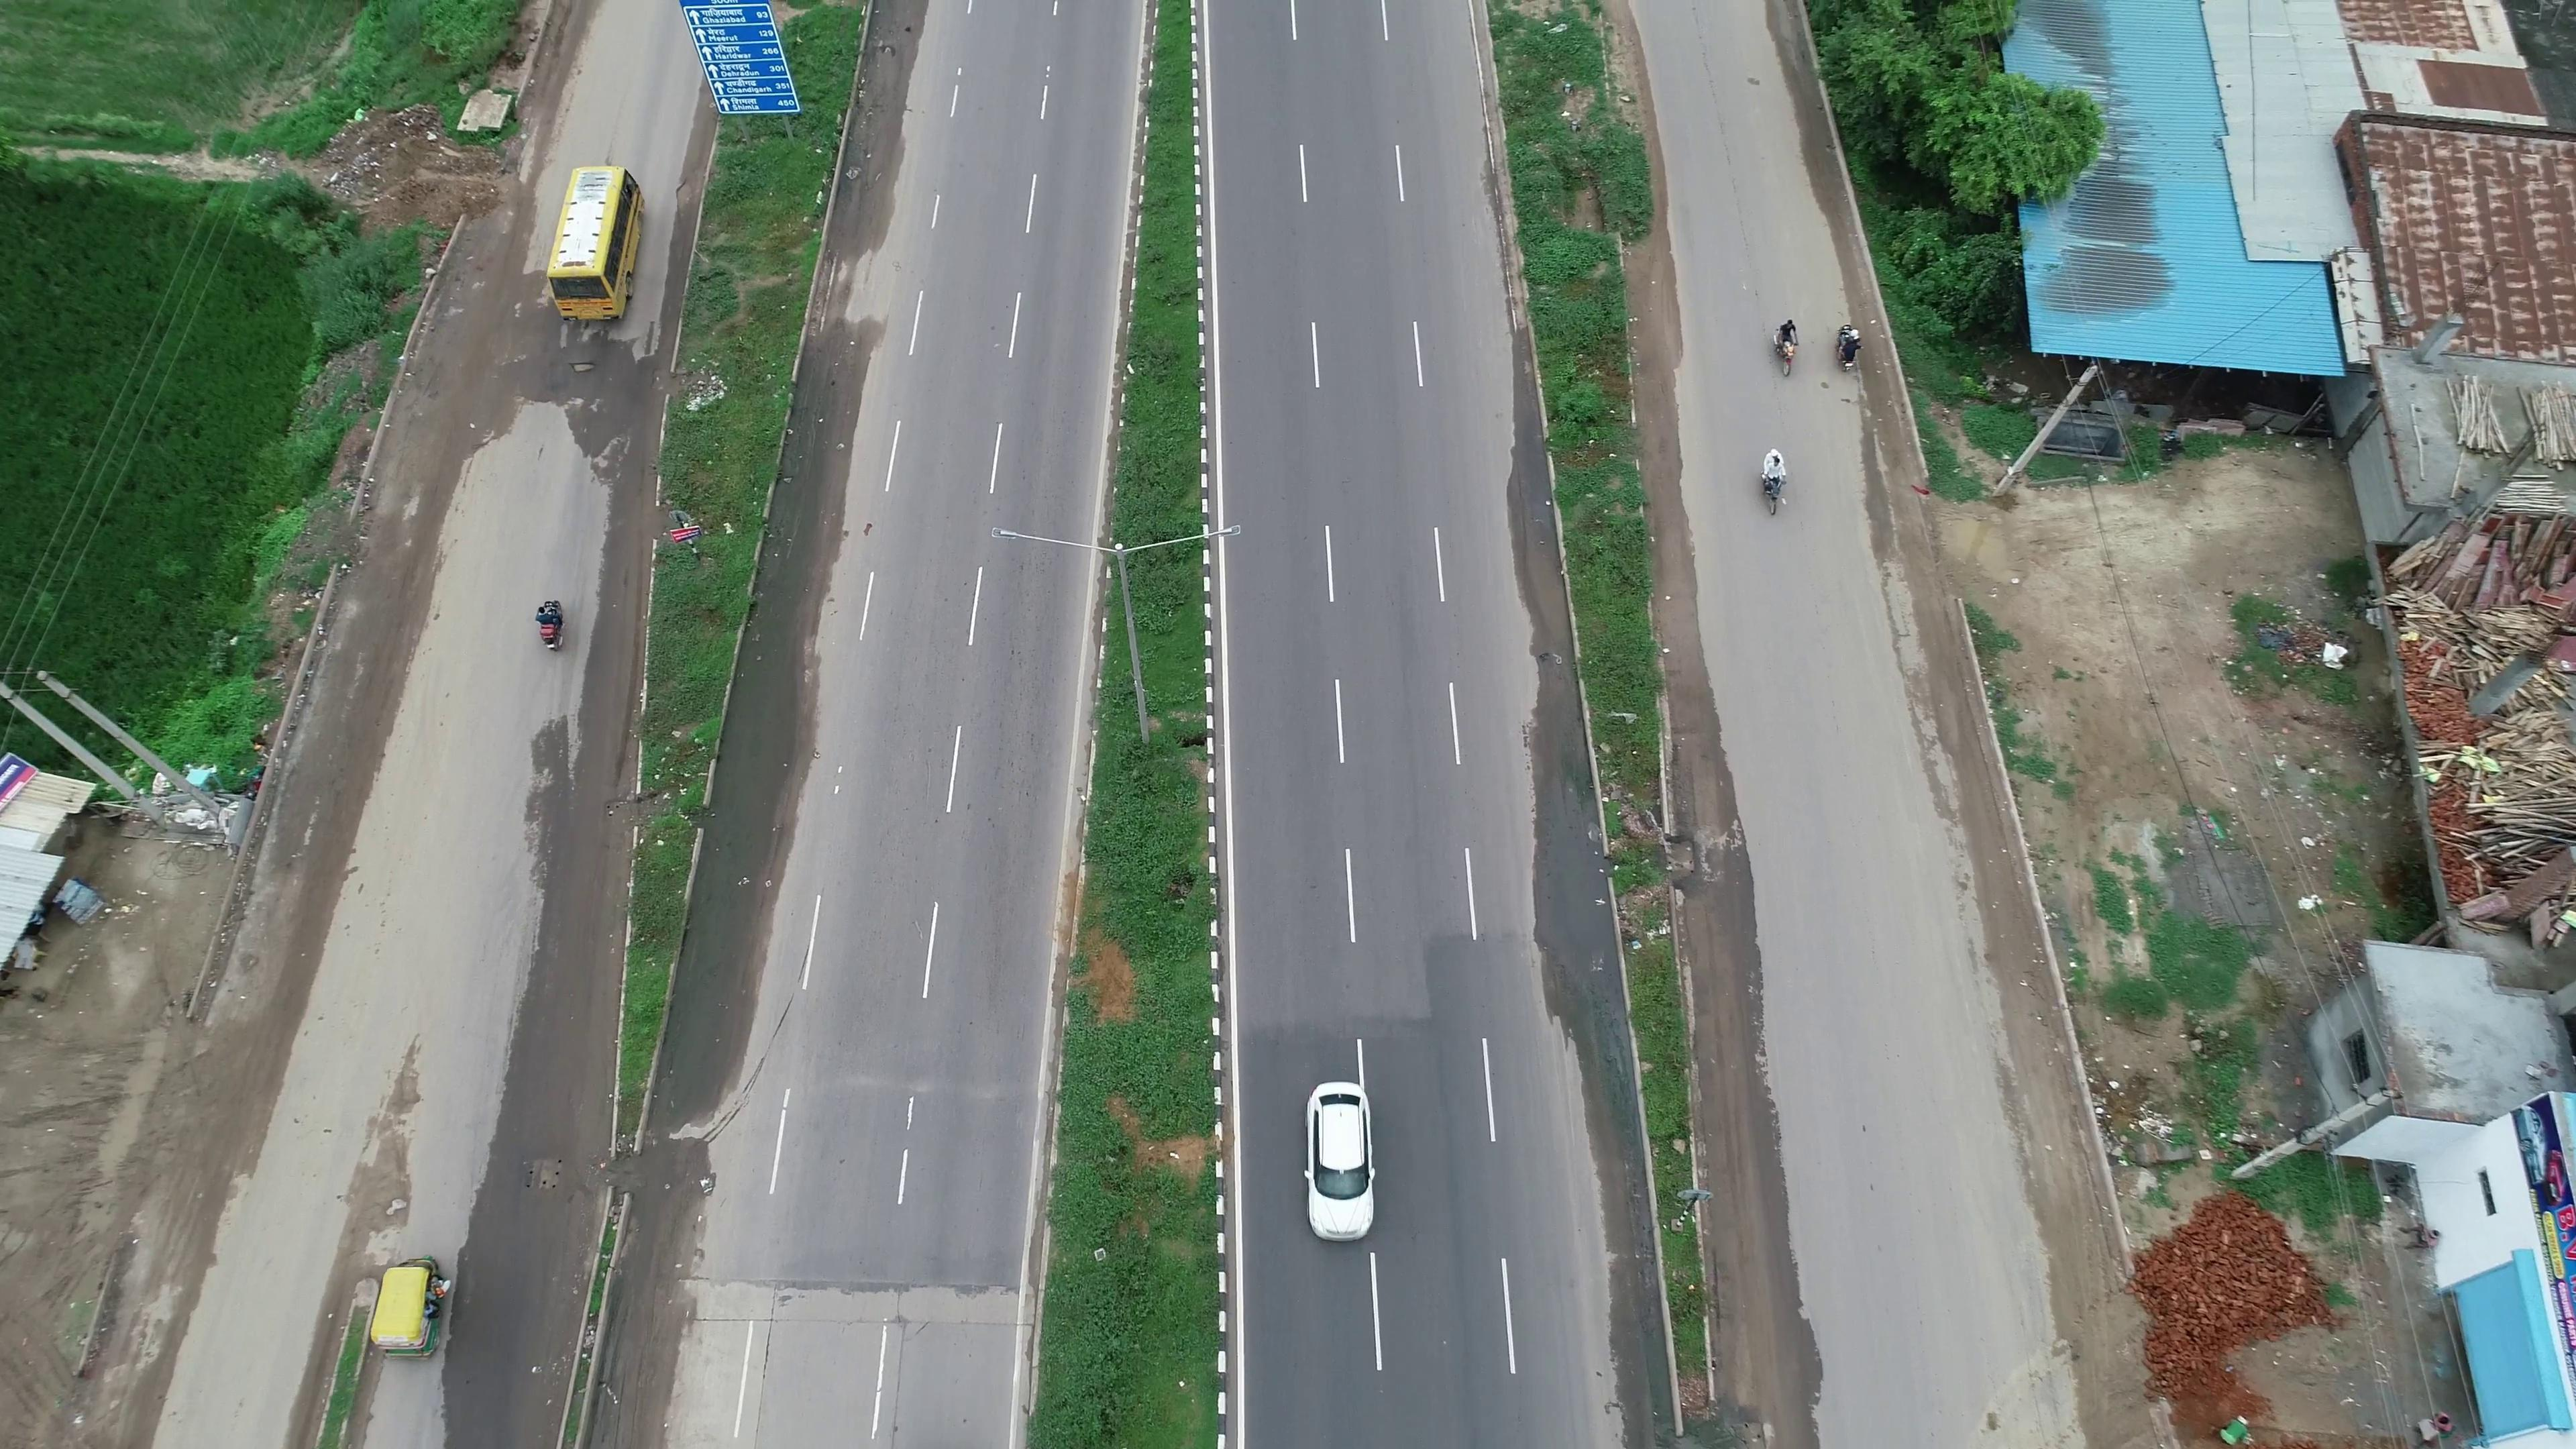Muddy_road: (1707, 1077, 1829, 1438)
Potholes: (538, 345, 602, 412)
Waterlogging: (1536, 782, 1621, 1046)
